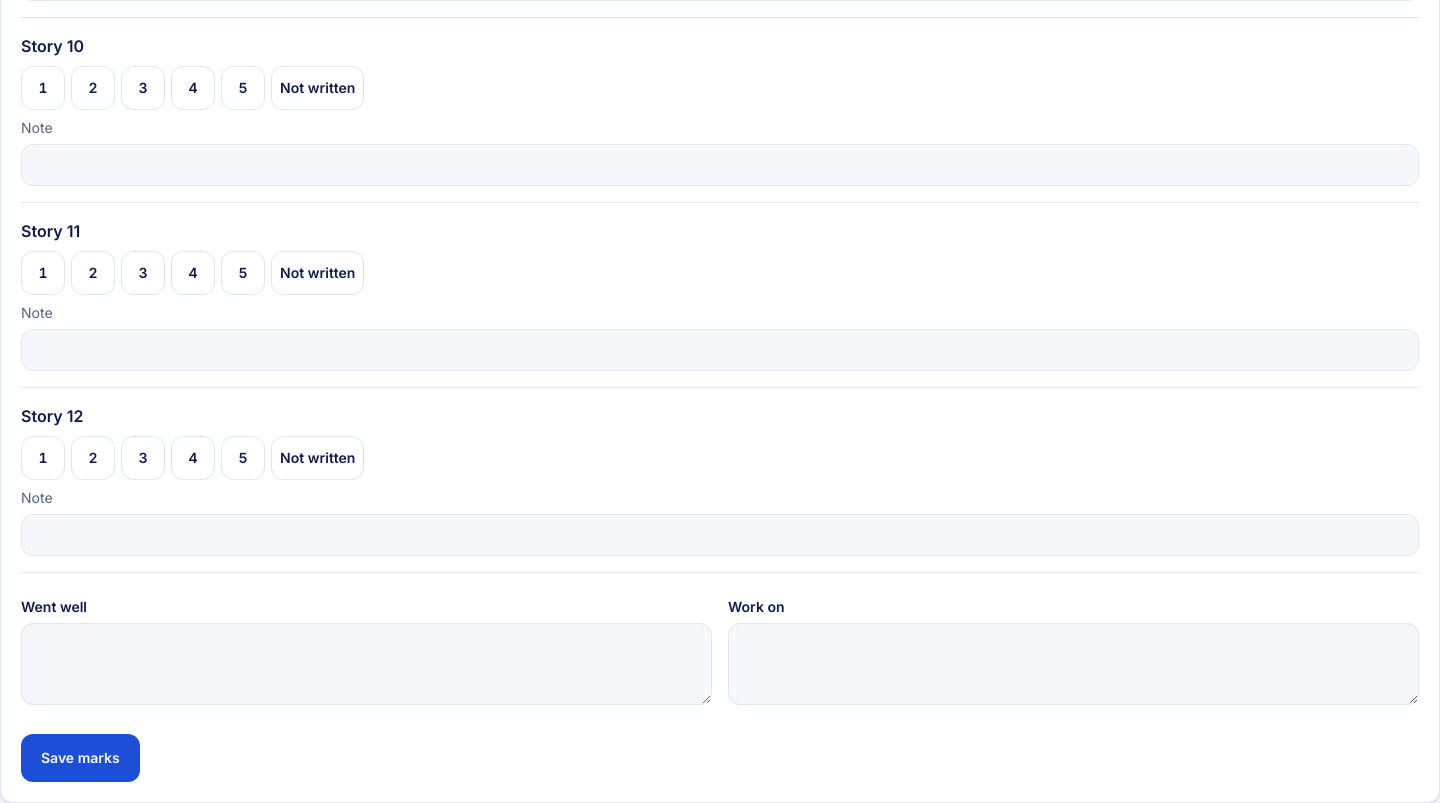
Test: TatReviewForm › says what is missing before saving
(page scrolled)
What coordinates should you click on to do the following:
click the button "Save marks"
I would click on:
 (80, 758)
Its box is x1=21 y1=734 x2=140 y2=782.
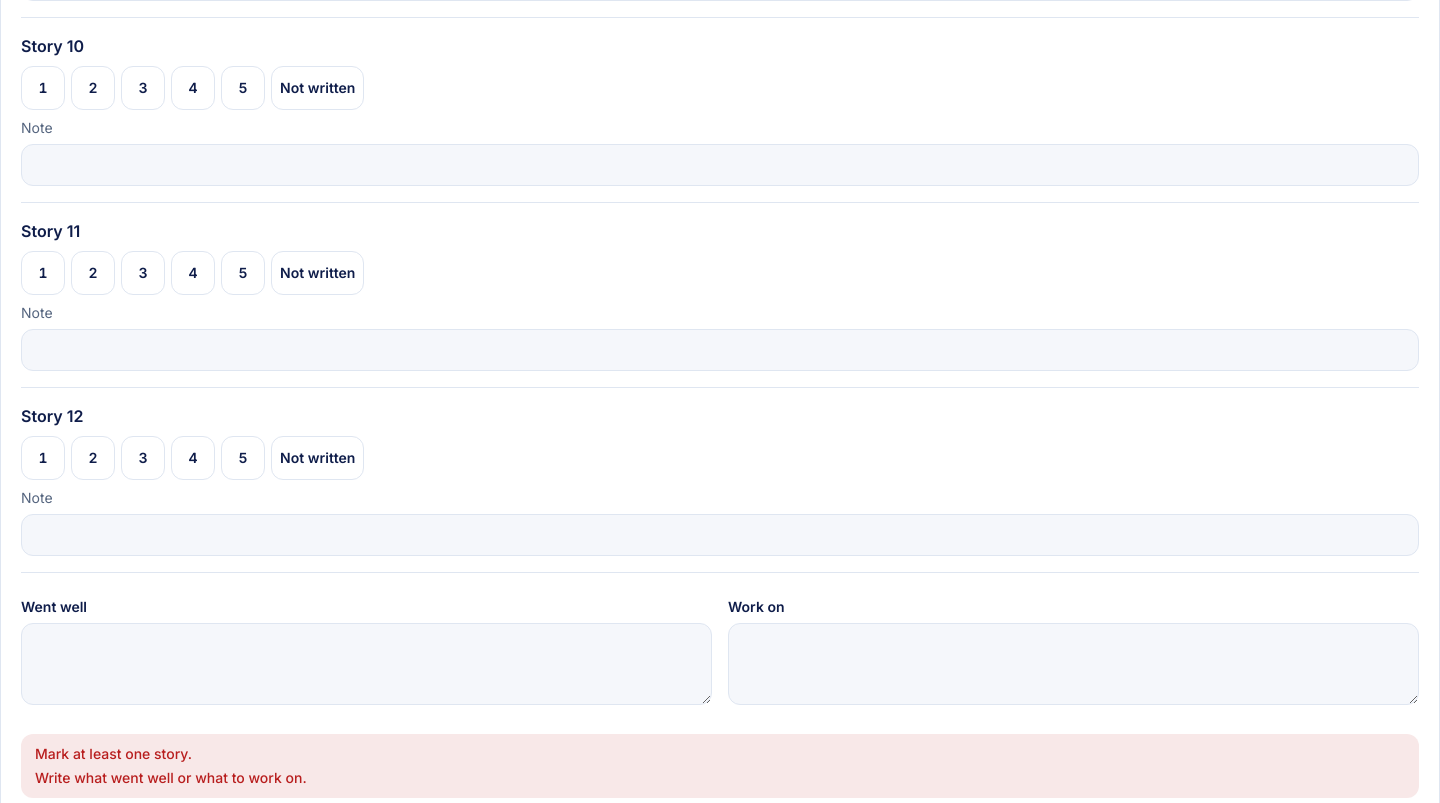
Expected: the message shows "Mark at least one story", x1=35 y1=745 x2=192 y2=762
